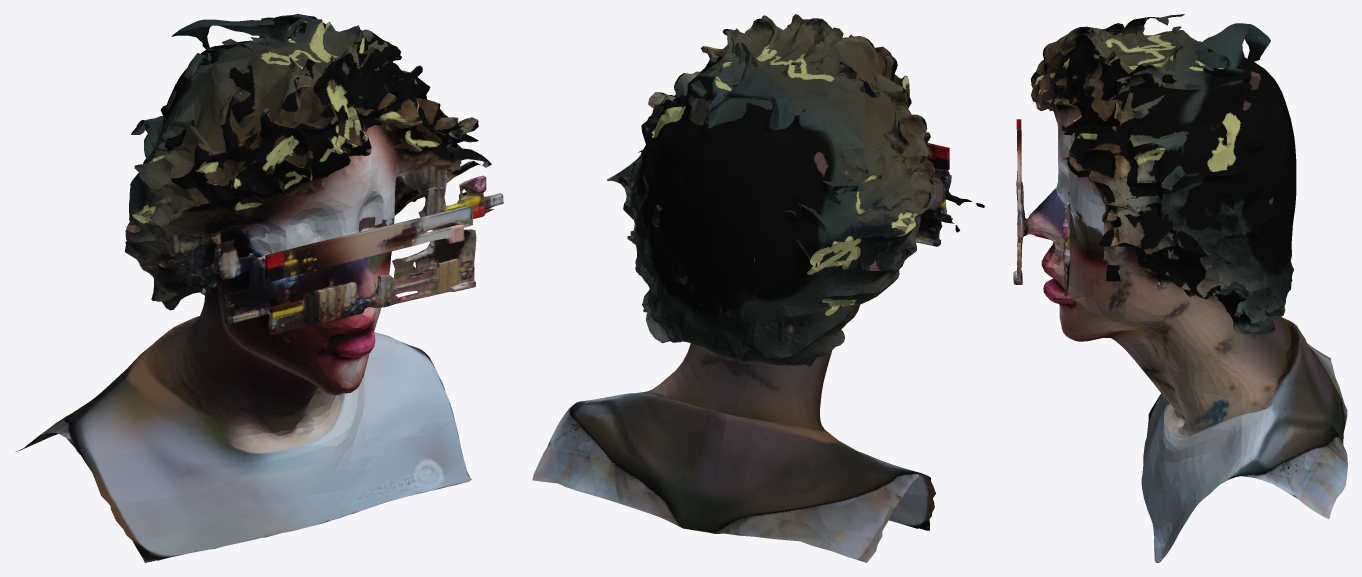
The model's file is facemodel.glb.
The picture shows the model from 3 angles, left to right: view 1: azimuth 30°, elevation 25°; view 2: azimuth 150°, elevation 25°; view 3: azimuth 270°, elevation 25°; orthographic projection. The views are drawn at different scales.
Parts seen in each view (by area): view 1: world; view 2: world; view 3: world.
Part boxes in pixels (bbox=[...]): world: bbox=[16, 14, 503, 562]; world: bbox=[532, 14, 984, 562]; world: bbox=[1013, 14, 1347, 562].
Size of the model in its own units: 0.7797 by 1 by 0.6736.
1 material, 1 textured.
